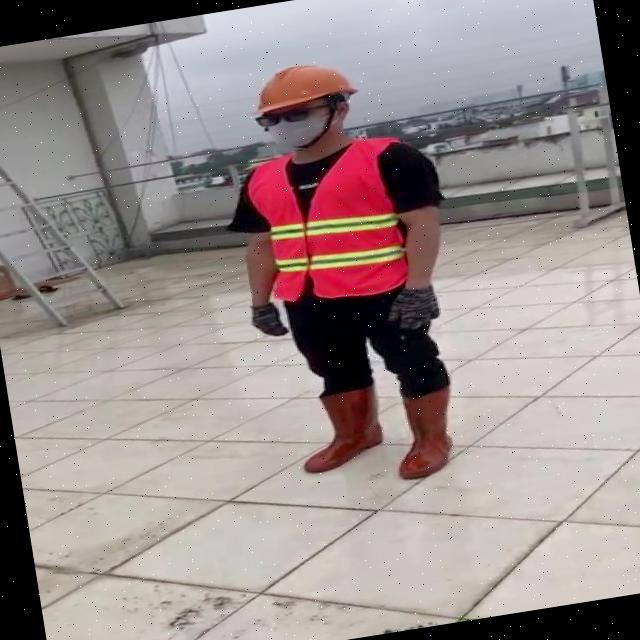boots: (294, 385, 390, 473), (384, 387, 468, 484)
helmet: (241, 55, 361, 116)
vest: (242, 142, 422, 308)
